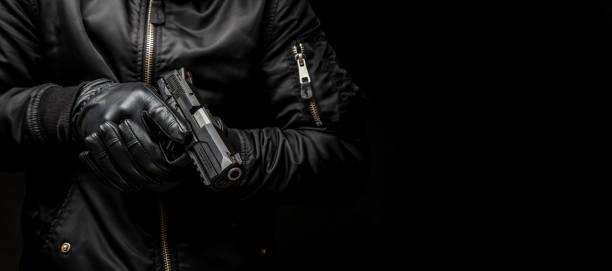weapon: (134, 64, 246, 190)
